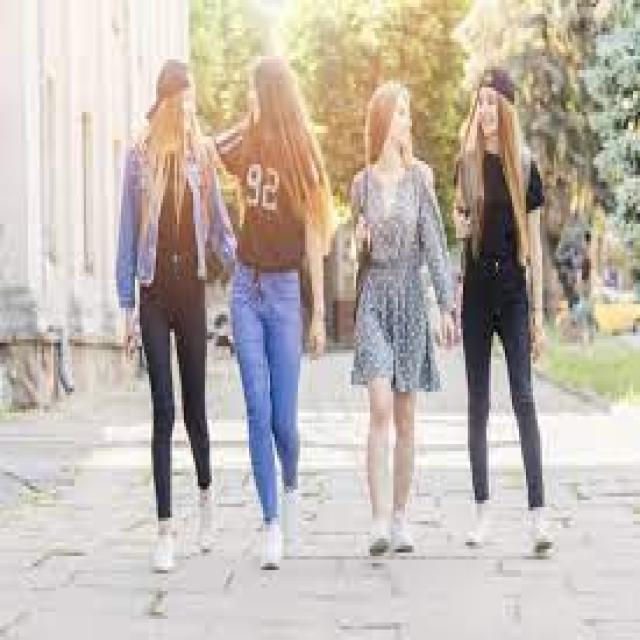Person: (112, 60, 235, 572), (214, 59, 332, 569), (452, 63, 553, 553), (353, 82, 454, 555)
